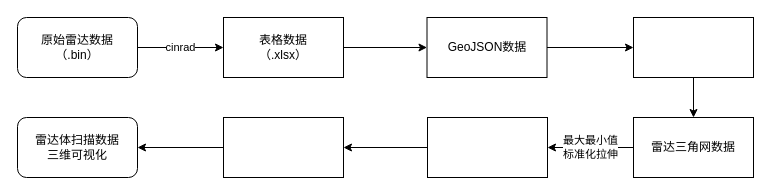
This 771x195 diagram has some shape labels left out. Here are the shapes that lost their labels. From the top down, the centre of each, then its label:
At (x=693, y=47): "压缩后的 GeoJSON数据".
At (x=283, y=147): "放在系统文件路径下".
At (x=487, y=147): "拉伸后的 雷达三角网数据".
